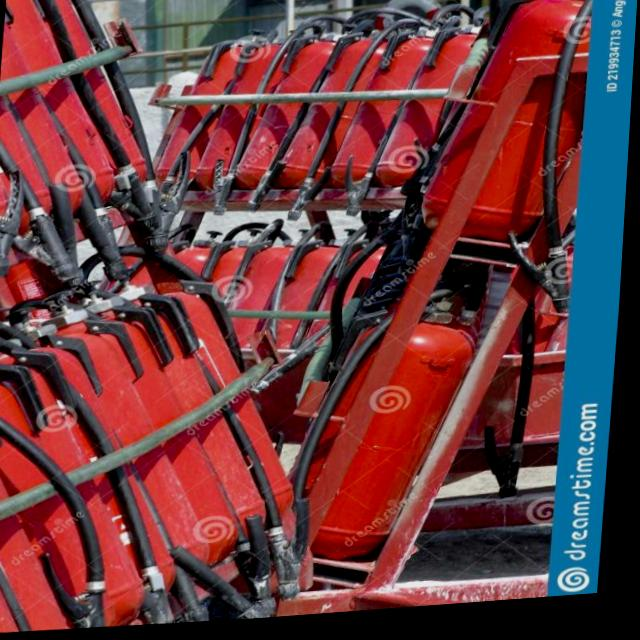FireExtinguisher: (297, 282, 502, 571), (419, 0, 599, 271), (229, 16, 376, 203), (371, 6, 512, 197), (323, 16, 469, 197), (270, 19, 417, 198), (183, 29, 326, 202), (145, 36, 274, 195), (214, 222, 330, 376), (183, 229, 291, 378), (253, 221, 371, 357)
